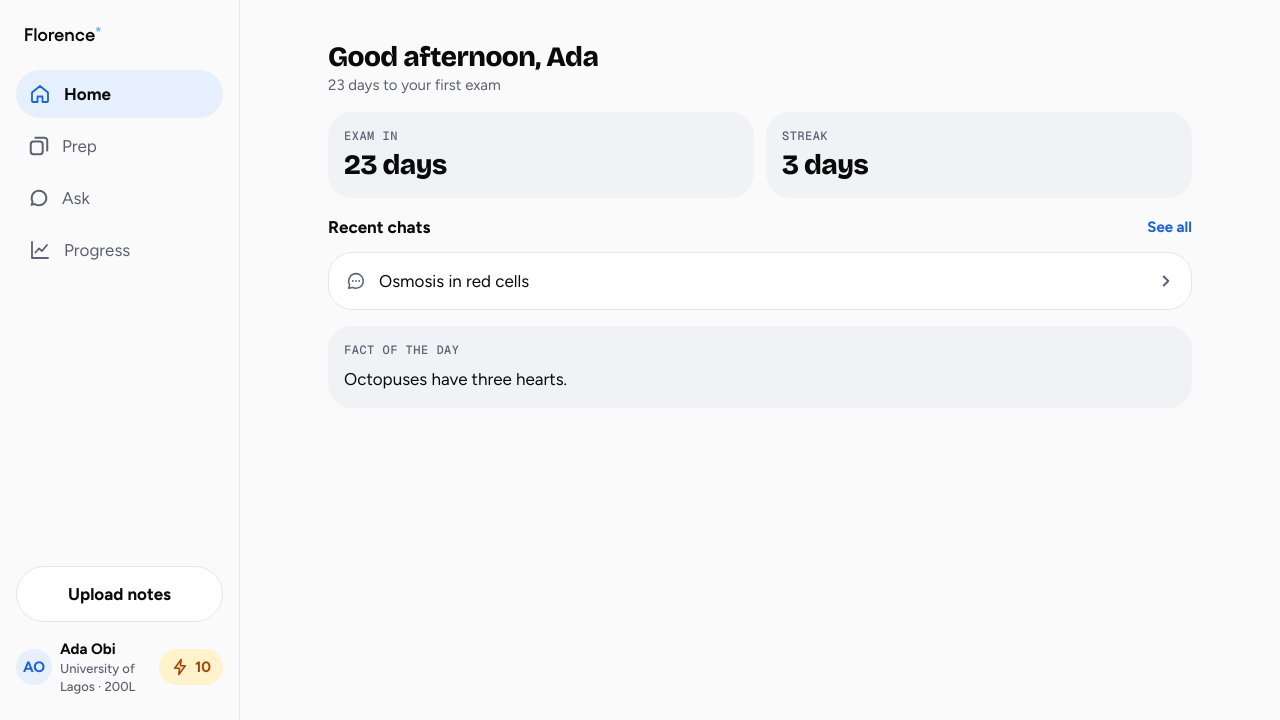
Test: Recent chats › opens the chat itself from Home and links to every chat
The width and height of the screenshot is (1280, 720).
Click the button "Osmosis in red cells". click: point(454, 281)
box: x1=329 y1=253 x2=1191 y2=309
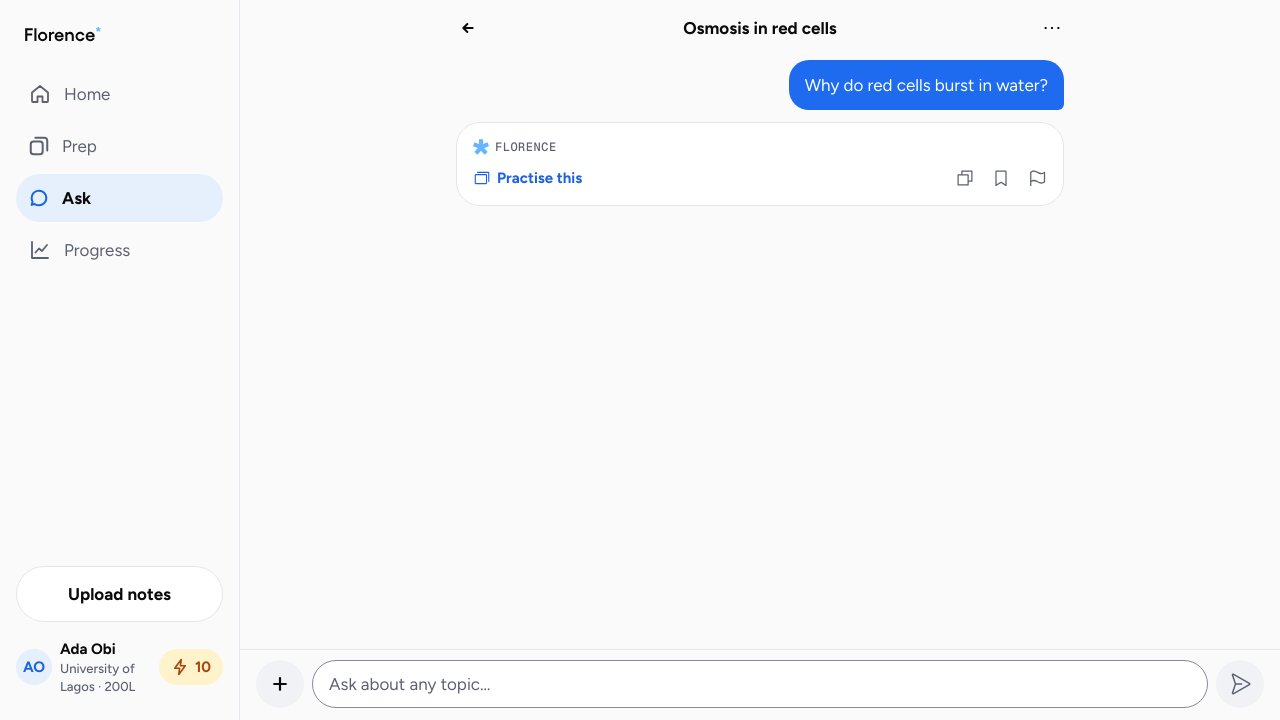
Check: the text "Why do red cells burst in water?" is shown, box x1=789 y1=60 x2=1064 y2=110
